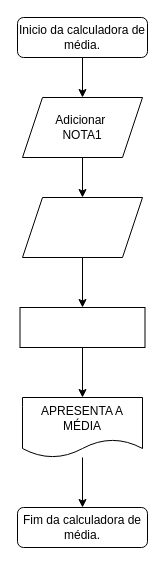
Some shapes in this 165 by 565 pixel diagram are drawn without their labels. The box of each missing label's shape, as (x1, y1, x2, y2) in pixels:
ADICIONAR NOTA 2: (22, 196, 142, 258)
MÉDIA = (NOTA1 + NOTA2) / 2: (19, 306, 145, 348)
